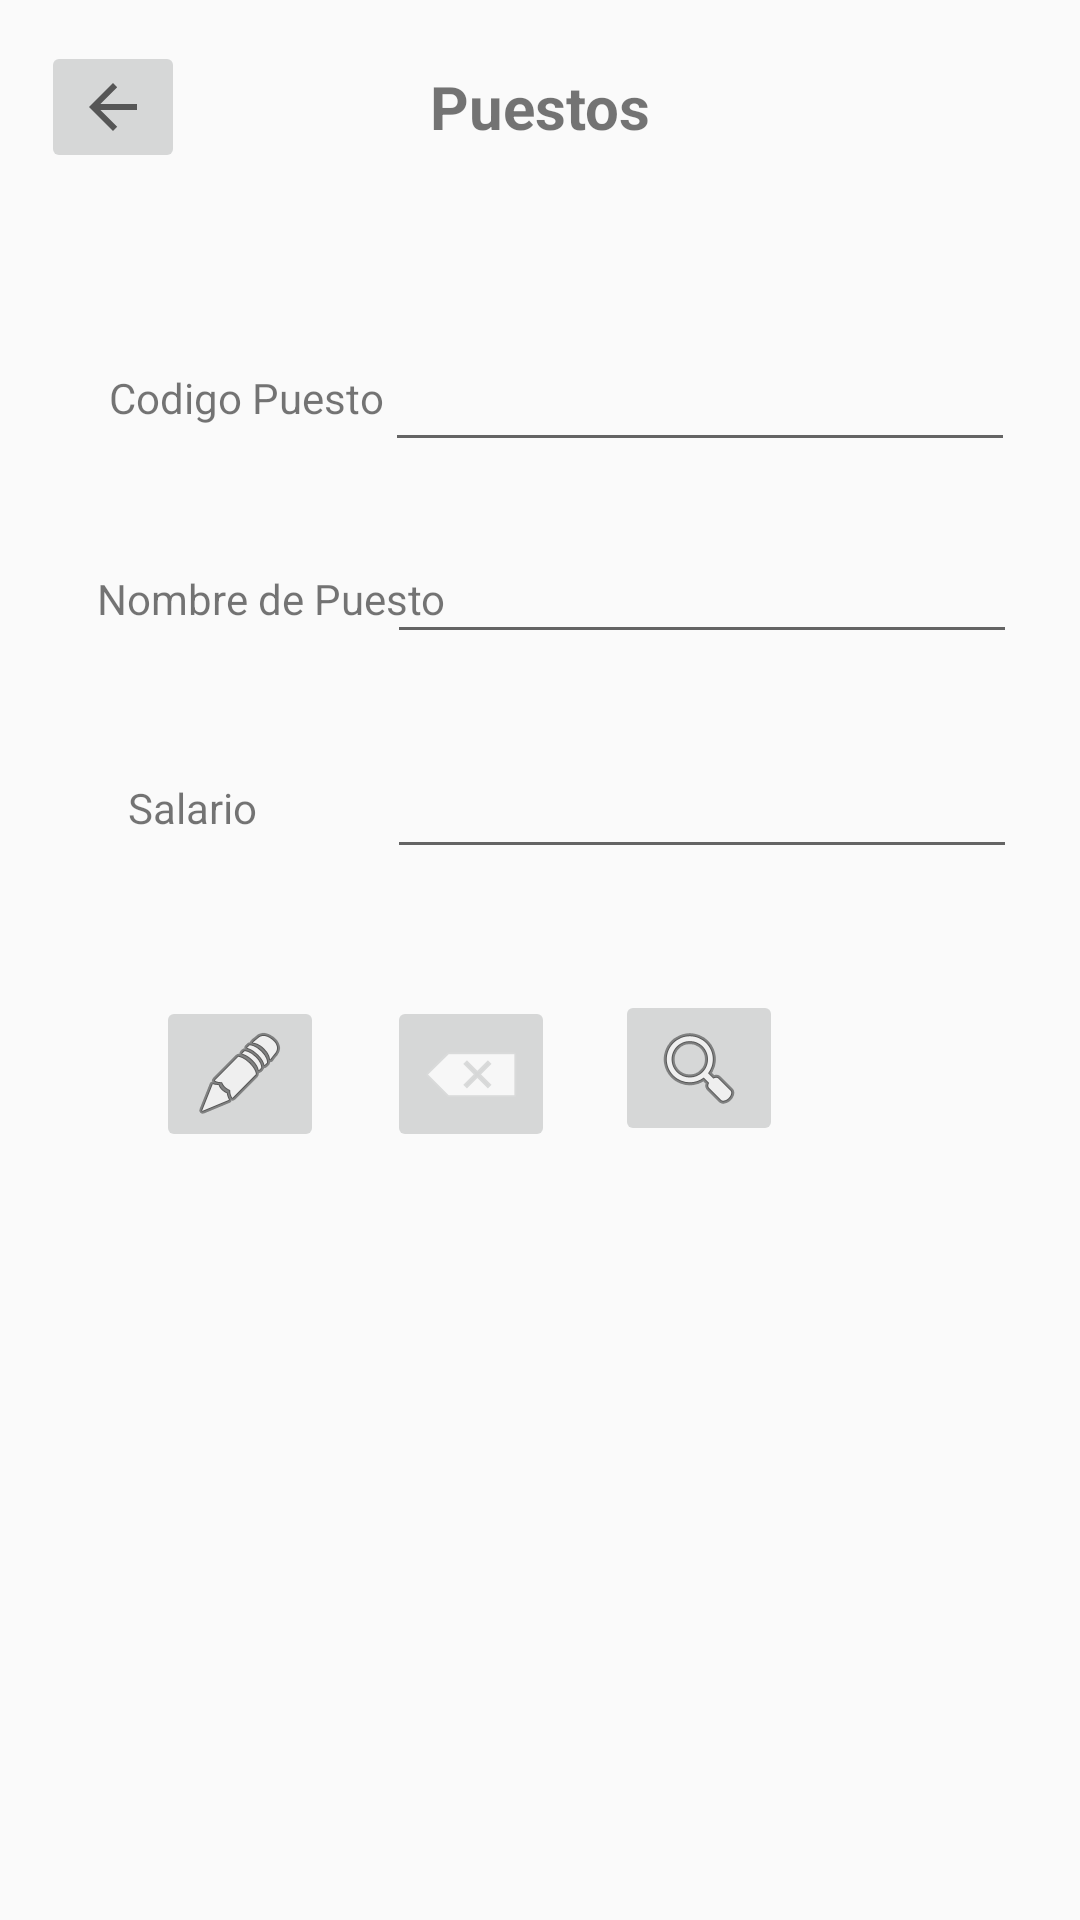

Icons on this 1080px×1920px Android screen, each with its box as (x1, y1, x2, y2):
delete: (399, 1014, 543, 1134)
edit: (168, 1014, 312, 1134)
search: (627, 1008, 771, 1128)
